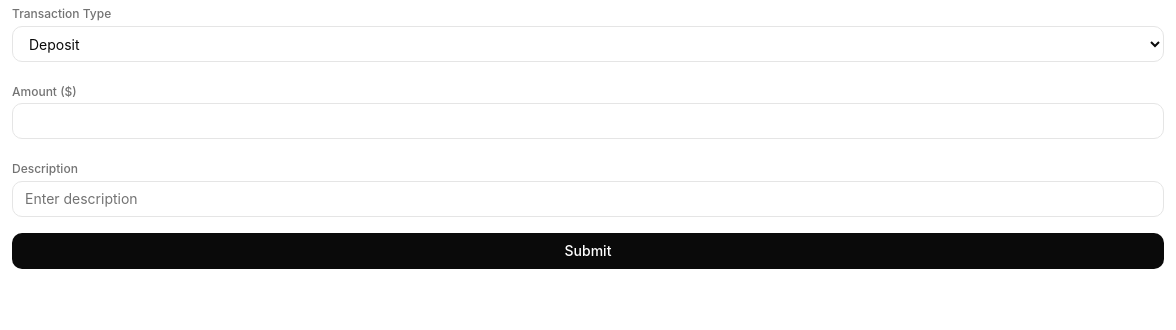
Test case: TransactionForm › validates amount does not exceed limit
Type "1000001" into the number field labelled "Amount ($)".
click(588, 121); type("1000001")  # box [12,103,1164,139]
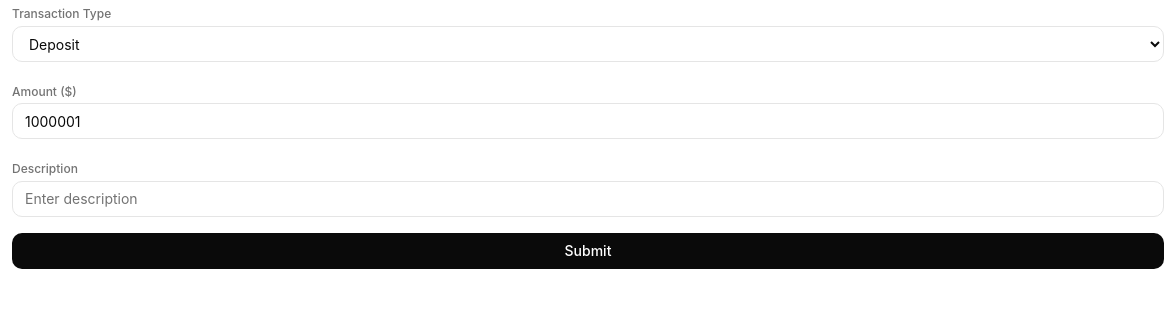
Submit the form "Transaction Type Amount ($) Description Submit"
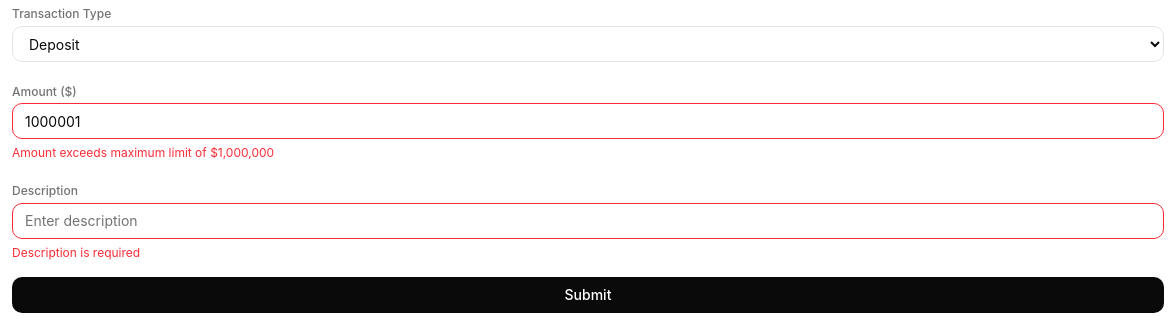
Now the text "Amount exceeds maximum limit of $1,000,000" is shown, box [12,145,274,160]
